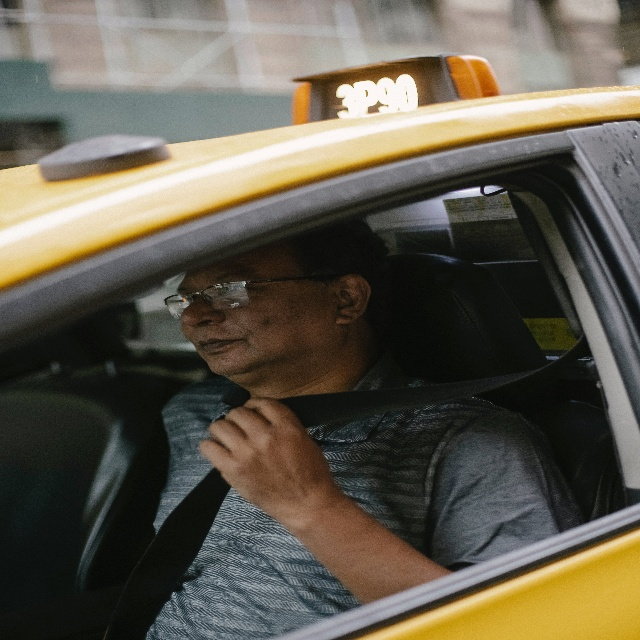Gafas: (163, 274, 338, 319)
Sin_guantes: (200, 396, 330, 529)
